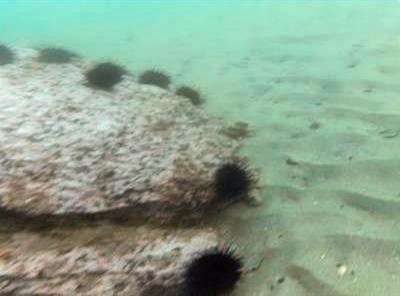urchin: (186, 245, 245, 296), (213, 156, 258, 200), (84, 60, 128, 90), (138, 65, 175, 93), (38, 43, 75, 66), (173, 79, 201, 104)
